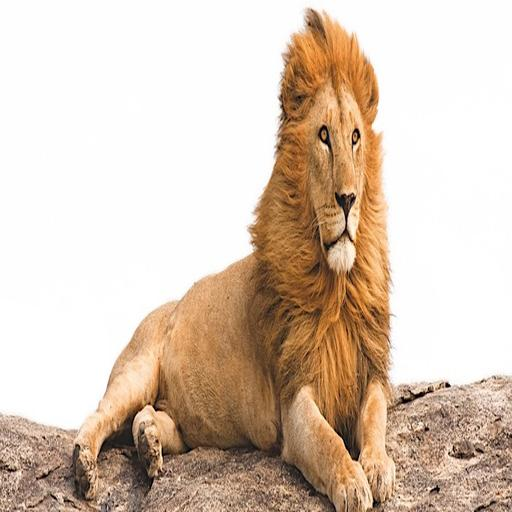Lion: (62, 2, 430, 512)
